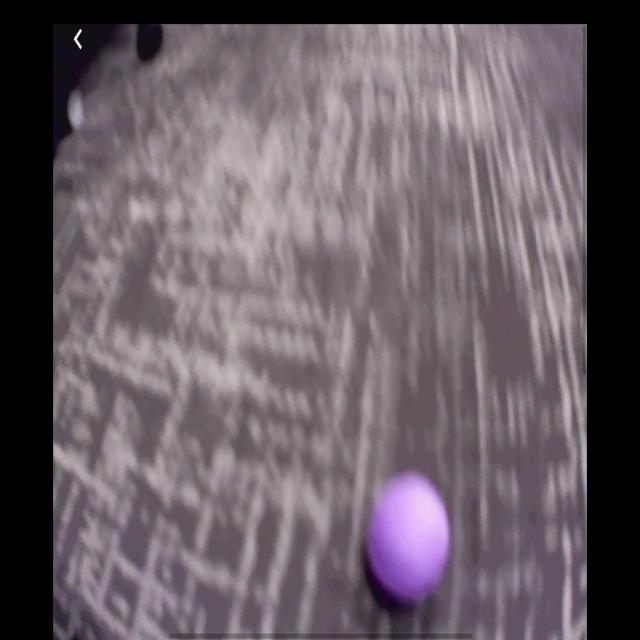ball: (365, 470, 452, 610)
